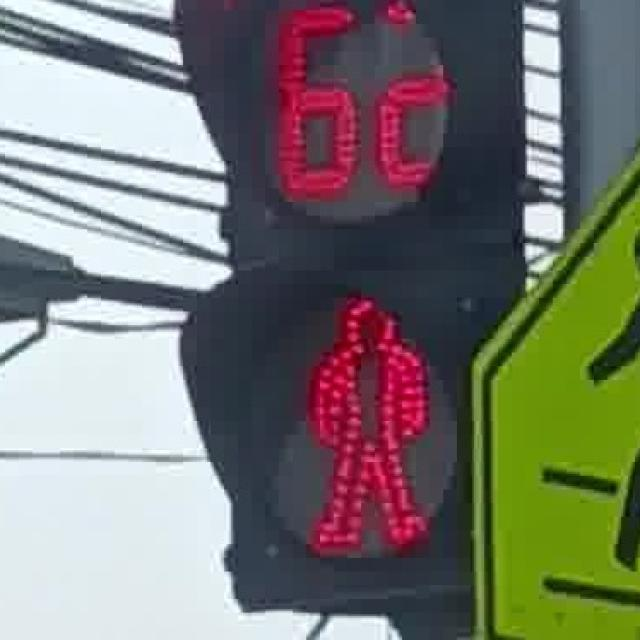red-crossing: (289, 282, 436, 565)
